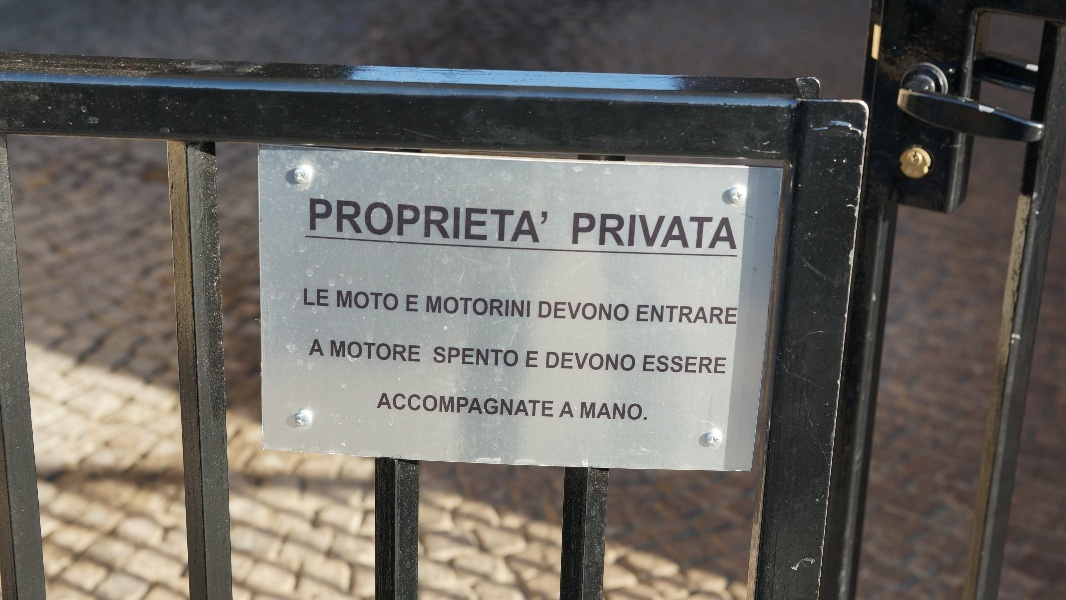text: (321, 199, 336, 244), (337, 199, 352, 244), (353, 199, 368, 244), (369, 199, 384, 244), (385, 199, 400, 244), (401, 199, 416, 244), (417, 199, 432, 244), (433, 199, 448, 244), (449, 199, 464, 244), (465, 199, 480, 244), (481, 199, 496, 244), (497, 199, 512, 244), (513, 199, 528, 244), (529, 199, 544, 244), (721, 213, 737, 250), (577, 213, 592, 250), (593, 213, 608, 250), (609, 213, 624, 250), (625, 213, 640, 250), (641, 213, 656, 250), (657, 213, 672, 250), (673, 213, 688, 250), (689, 213, 704, 250), (705, 213, 720, 250), (310, 199, 320, 244), (385, 393, 400, 417), (401, 393, 416, 417), (417, 393, 432, 417), (433, 393, 448, 417), (449, 393, 464, 417), (465, 393, 480, 417), (481, 393, 496, 417), (497, 393, 512, 417), (513, 393, 528, 417), (529, 393, 544, 417), (433, 296, 448, 318), (449, 296, 464, 318), (465, 296, 480, 318), (481, 296, 496, 318), (497, 296, 512, 318), (513, 296, 528, 318), (337, 341, 352, 363), (353, 341, 368, 363), (369, 341, 384, 363), (385, 341, 400, 363), (401, 341, 416, 363), (449, 346, 464, 368), (465, 346, 480, 368), (481, 346, 496, 368), (497, 346, 512, 368), (545, 301, 560, 322), (561, 301, 576, 322), (577, 301, 592, 322), (593, 301, 608, 322), (609, 301, 624, 322), (337, 290, 352, 311), (353, 290, 368, 311), (369, 290, 384, 311), (434, 346, 448, 368), (641, 305, 656, 325), (657, 305, 672, 325), (673, 305, 688, 325), (689, 305, 704, 325), (705, 305, 720, 325), (721, 305, 736, 325), (385, 290, 399, 311), (561, 352, 576, 371), (577, 352, 592, 371), (593, 352, 608, 371), (609, 352, 624, 371), (593, 402, 608, 421), (609, 402, 624, 421), (625, 402, 640, 421), (305, 289, 320, 307), (657, 356, 672, 374), (673, 356, 688, 374), (689, 356, 704, 374), (705, 356, 720, 374), (548, 352, 560, 371), (625, 352, 637, 371), (545, 393, 554, 417), (581, 402, 592, 421), (645, 356, 656, 374), (406, 295, 416, 312), (529, 351, 539, 368), (566, 402, 576, 418), (321, 289, 329, 307), (545, 199, 548, 244), (641, 402, 648, 421), (513, 346, 519, 368), (573, 213, 576, 250), (427, 296, 432, 318), (331, 341, 336, 363), (721, 356, 727, 374), (539, 301, 544, 322), (625, 301, 630, 322), (315, 339, 320, 356), (321, 339, 325, 356), (417, 341, 420, 363), (529, 296, 531, 318), (638, 305, 640, 325), (417, 295, 419, 312), (383, 393, 384, 417), (737, 305, 738, 325), (527, 351, 528, 368)
